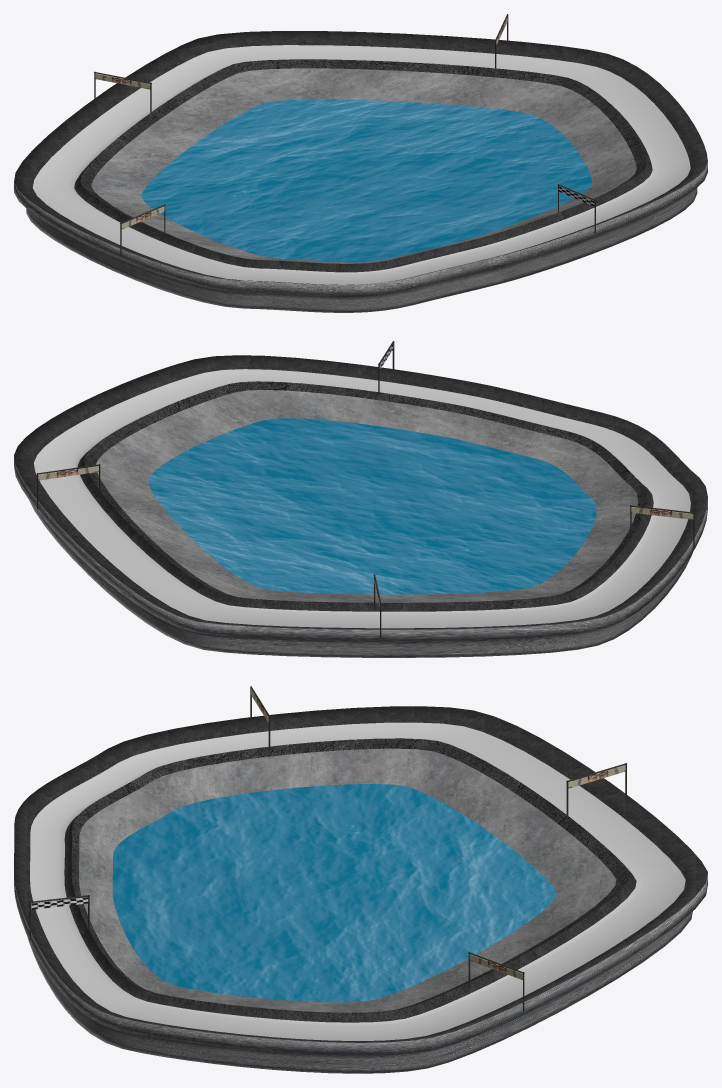
Rendered from Track_4.fbx.
The picture shows the model from 3 angles, top to bottom: view 1: azimuth 30°, elevation 25°; view 2: azimuth 150°, elevation 25°; view 3: azimuth 270°, elevation 25°; orthographic projection. The views are drawn at different scales.
Visible parts, largest first — view 1: TRACK_4, CHECK_2; view 2: TRACK_4, CHECK_3, CHECK_1; view 3: TRACK_4, CHECK_2, CHECK_1, START/FINISH.
Boxes of the visible parts, bbox=[...] form: TRACK_4: bbox=[14, 31, 707, 312]; CHECK_2: bbox=[94, 71, 151, 112]; TRACK_4: bbox=[14, 355, 707, 657]; CHECK_3: bbox=[630, 505, 694, 548]; CHECK_1: bbox=[37, 464, 100, 508]; TRACK_4: bbox=[14, 706, 707, 1073]; CHECK_2: bbox=[566, 763, 626, 815]; CHECK_1: bbox=[468, 952, 524, 1011]; START/FINISH: bbox=[29, 895, 89, 940].
Size of the model in its own units: 17082 by 1582 by 14881.
